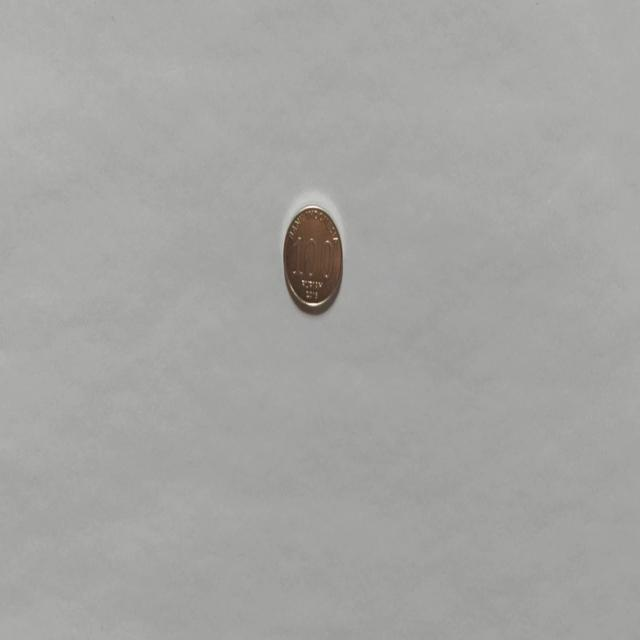seratus rupiah: (282, 202, 343, 314)
